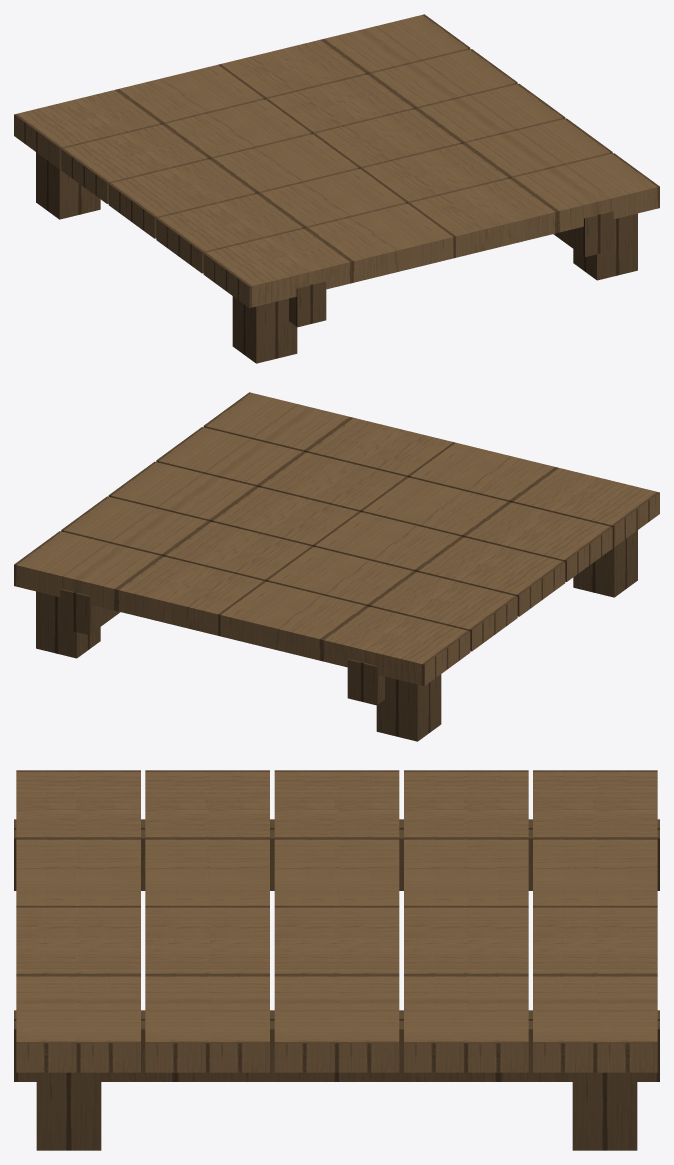
File: env_dock_straight_a_v001.glb
3 views of the same model, one above another, from view 1: azimuth 30°, elevation 25°; view 2: azimuth 150°, elevation 25°; view 3: azimuth 270°, elevation 25° (orthographic). The views are drawn at different scales.
Visible parts, largest first — view 1: env_dock_straight_a_LOD0_mesh, env_dock_straight_a_LOD1_mesh, env_dock_straight_a_LOD2_mesh; view 2: env_dock_straight_a_LOD0_mesh, env_dock_straight_a_LOD1_mesh, env_dock_straight_a_LOD2_mesh; view 3: env_dock_straight_a_LOD1_mesh, env_dock_straight_a_LOD0_mesh, env_dock_straight_a_LOD2_mesh.
Part boxes in pixels (<box>): env_dock_straight_a_LOD0_mesh: <box>15,15,657,359</box>; env_dock_straight_a_LOD1_mesh: <box>14,14,642,363</box>; env_dock_straight_a_LOD2_mesh: <box>14,21,659,307</box>; env_dock_straight_a_LOD0_mesh: <box>16,393,658,737</box>; env_dock_straight_a_LOD1_mesh: <box>14,392,659,741</box>; env_dock_straight_a_LOD2_mesh: <box>29,402,649,669</box>; env_dock_straight_a_LOD1_mesh: <box>14,770,659,1150</box>; env_dock_straight_a_LOD0_mesh: <box>17,771,656,1146</box>; env_dock_straight_a_LOD2_mesh: <box>16,770,657,1072</box>.
Bounding box in the file's own units: 2 × 0.4 × 2.
Materials: 2 (2 with a texture image).
